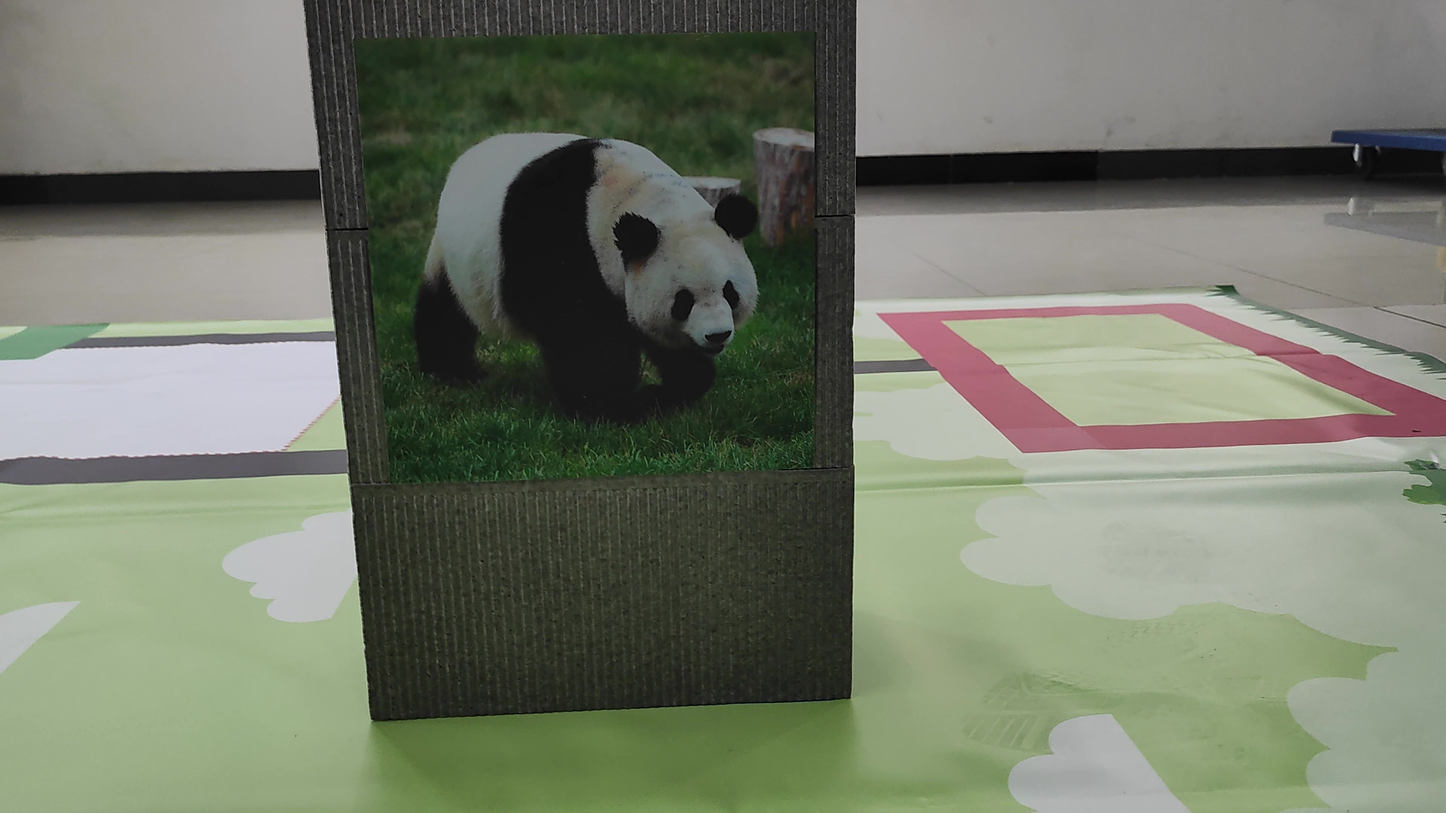panda: (373, 83, 777, 461)
